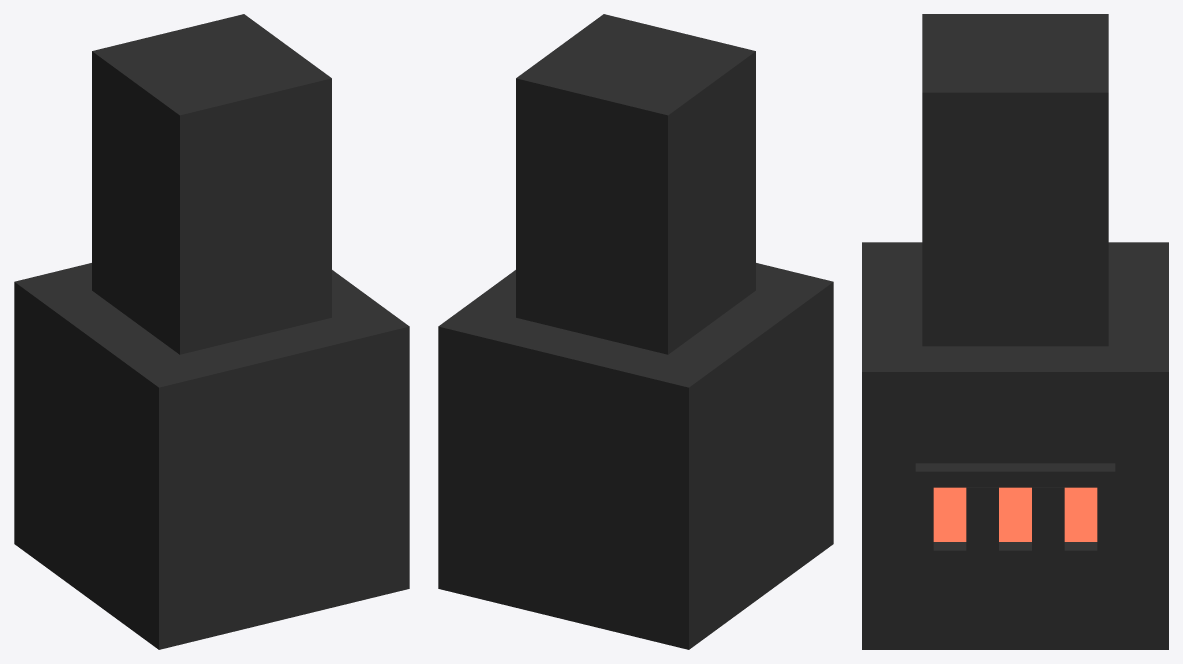
The model's file is Furnace.fbx.
3 renders of one model, left to right at view 1: azimuth 30°, elevation 25°; view 2: azimuth 150°, elevation 25°; view 3: azimuth 270°, elevation 25°, orthographic. The views are drawn at different scales.
Parts seen in each view (by area): view 1: Cube; view 2: Cube; view 3: Cube.
Part boxes in pixels (x1,y1,x2,y2): Cube: (14,14,409,649); Cube: (438,14,833,649); Cube: (862,14,1168,649).
Size of the model in its own units: 213 by 383 by 200.
